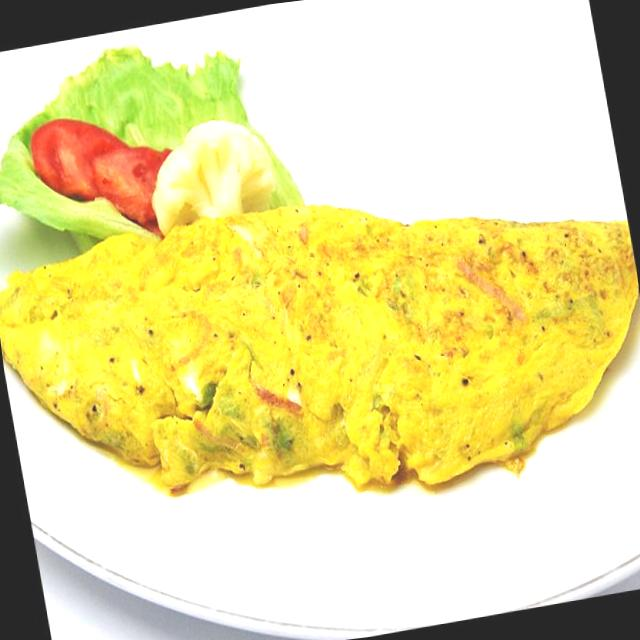Omelet: (0, 134, 640, 549)
